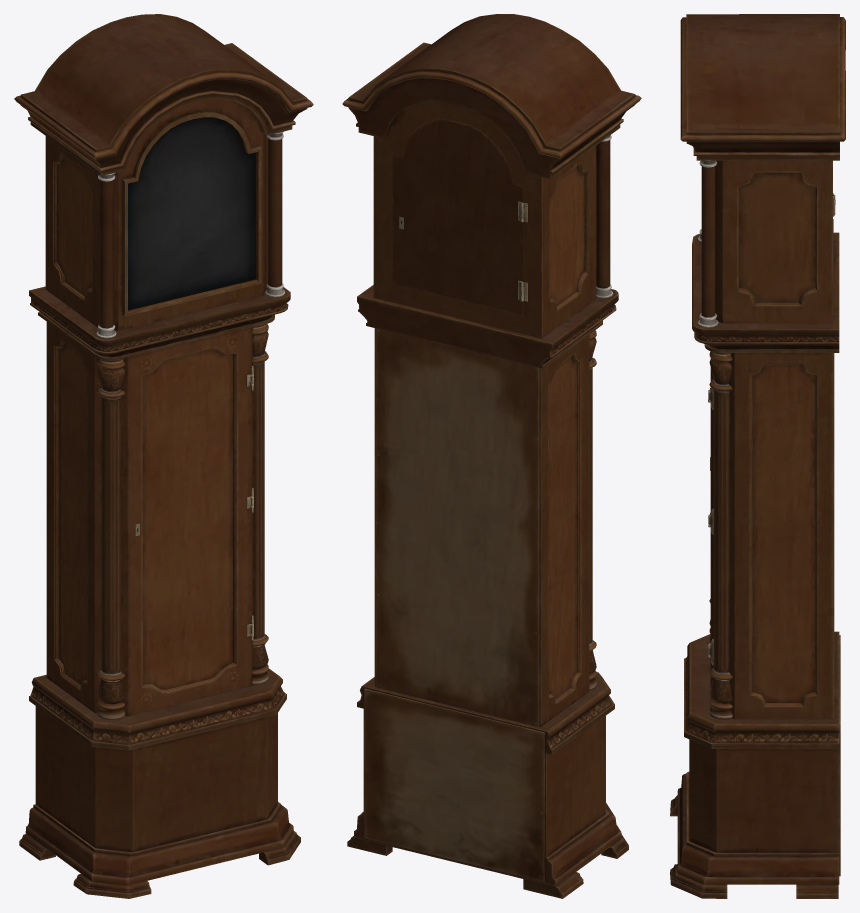
Rendered from vintage_grandfather_clock_01.glb.
3 renders of one model, left to right at view 1: azimuth 30°, elevation 25°; view 2: azimuth 150°, elevation 25°; view 3: azimuth 270°, elevation 25°, orthographic. The views are drawn at different scales.
Parts seen in each view (by area): view 1: vintage_grandfather_clock_01_Body; view 2: vintage_grandfather_clock_01_Body; view 3: vintage_grandfather_clock_01_Body.
Boxes of the visible parts, x1,y1,x2,y2 form: vintage_grandfather_clock_01_Body: (14,14,313,898); vintage_grandfather_clock_01_Body: (342,14,641,898); vintage_grandfather_clock_01_Body: (670,14,845,898).
Size of the model in its own units: 0.6256 by 2.19 by 0.4266.
Materials: 2 (2 with a texture image).
